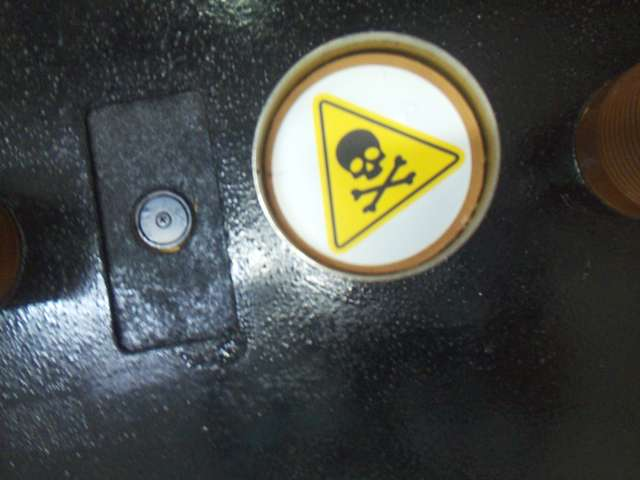toxic_fluid: (275, 67, 471, 263)
